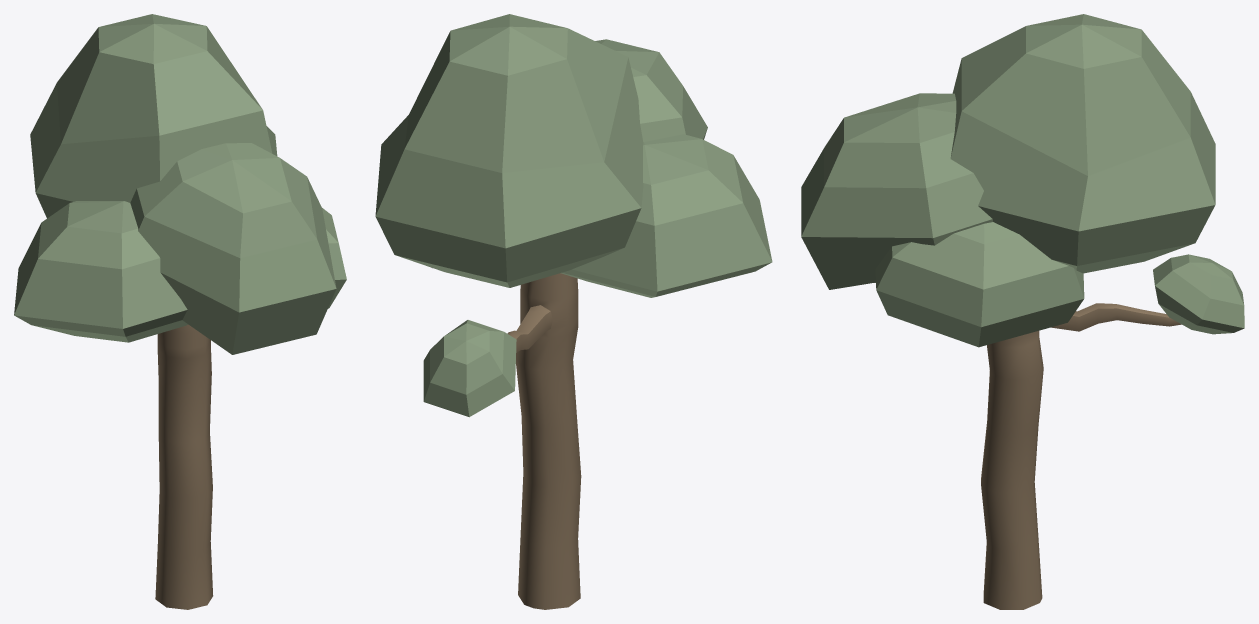
File: Oak_Mesh.fbx
The picture shows the model from 3 angles, left to right: view 1: azimuth 30°, elevation 25°; view 2: azimuth 150°, elevation 25°; view 3: azimuth 270°, elevation 25°; orthographic projection. The views are drawn at different scales.
Visible parts, largest first — view 1: Foliage1, Foliage2, Foliage3, Trunk1, Foliage5; view 2: Foliage2, Trunk1, Foliage3, Foliage4, Foliage1; view 3: Foliage2, Foliage1, Foliage5, Trunk1, Foliage4.
Boxes of the visible parts, x1,y1,x2,y2 form: Foliage1: (130,143,336,354); Foliage2: (30,14,277,218); Foliage3: (14,201,187,342); Trunk1: (155,324,213,609); Foliage5: (322,208,346,308); Foliage2: (375,14,643,287); Trunk1: (507,273,581,609); Foliage3: (560,134,772,297); Foliage4: (423,320,516,417); Foliage1: (595,39,707,142); Foliage2: (950,14,1215,273); Foliage1: (801,93,992,289); Foliage5: (875,222,1084,347); Trunk1: (981,303,1181,609); Foliage4: (1153,254,1244,334).
Size of the model in its own units: 14.04 by 22.44 by 15.69.
